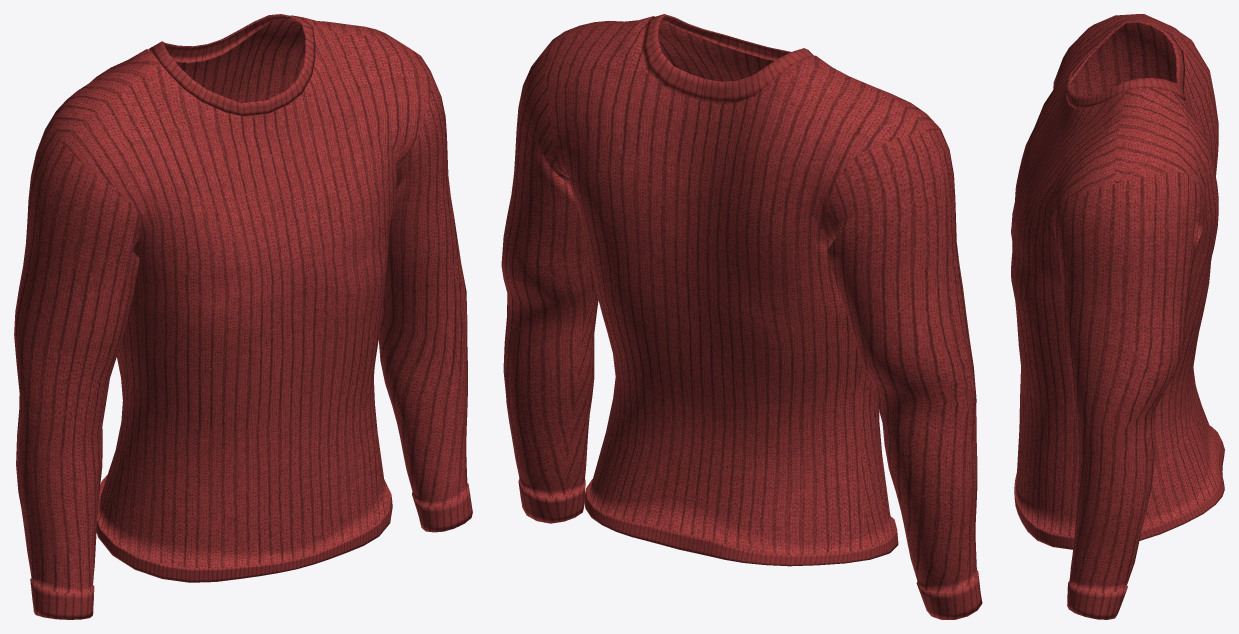
The model's file is top_sweater.gltf.
The picture shows the model from 3 angles, left to right: view 1: azimuth 30°, elevation 25°; view 2: azimuth 150°, elevation 25°; view 3: azimuth 270°, elevation 25°; orthographic projection. The views are drawn at different scales.
Visible parts, largest first — view 1: top_sweater; view 2: top_sweater; view 3: top_sweater.
Boxes of the visible parts, x1,y1,x2,y2 form: top_sweater: [14, 14, 472, 619]; top_sweater: [501, 14, 982, 619]; top_sweater: [1011, 14, 1224, 619].
Bounding box in the file's own units: 0.5465 × 0.6177 × 0.2497.
Materials: 1 (1 with a texture image).
